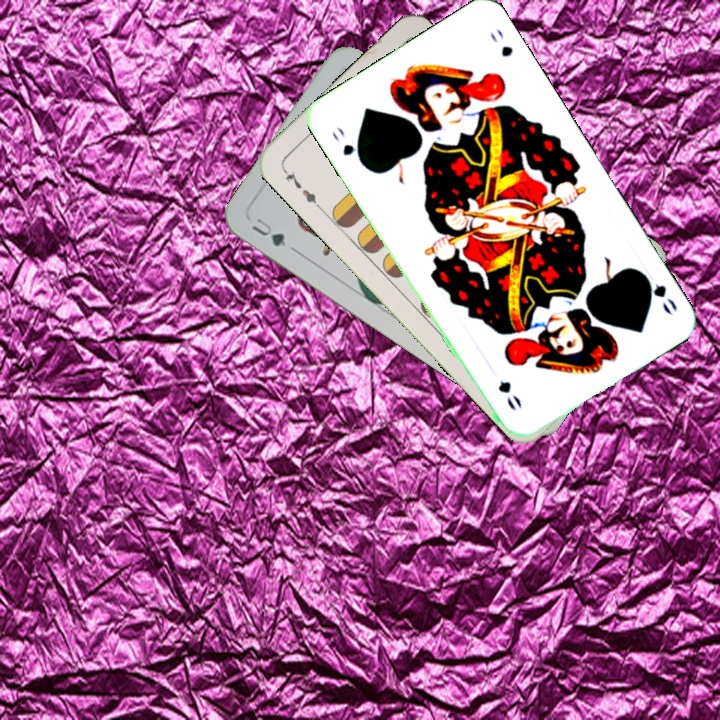E7: (278, 164, 323, 211)
GO: (636, 267, 680, 318), (327, 122, 367, 169)
GU: (247, 212, 289, 250)
